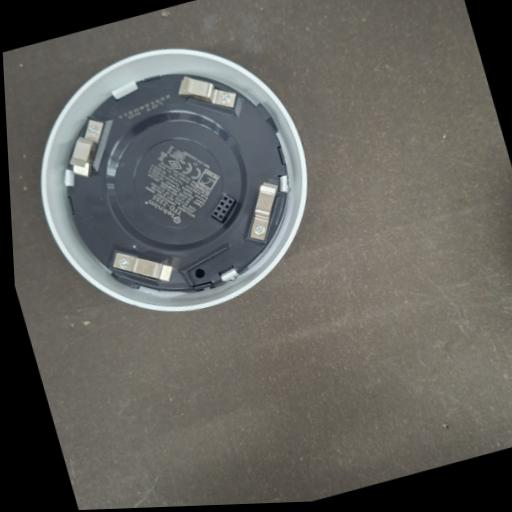yayli: (70, 119, 105, 177), (179, 77, 237, 108), (113, 253, 173, 281), (249, 183, 277, 240)
